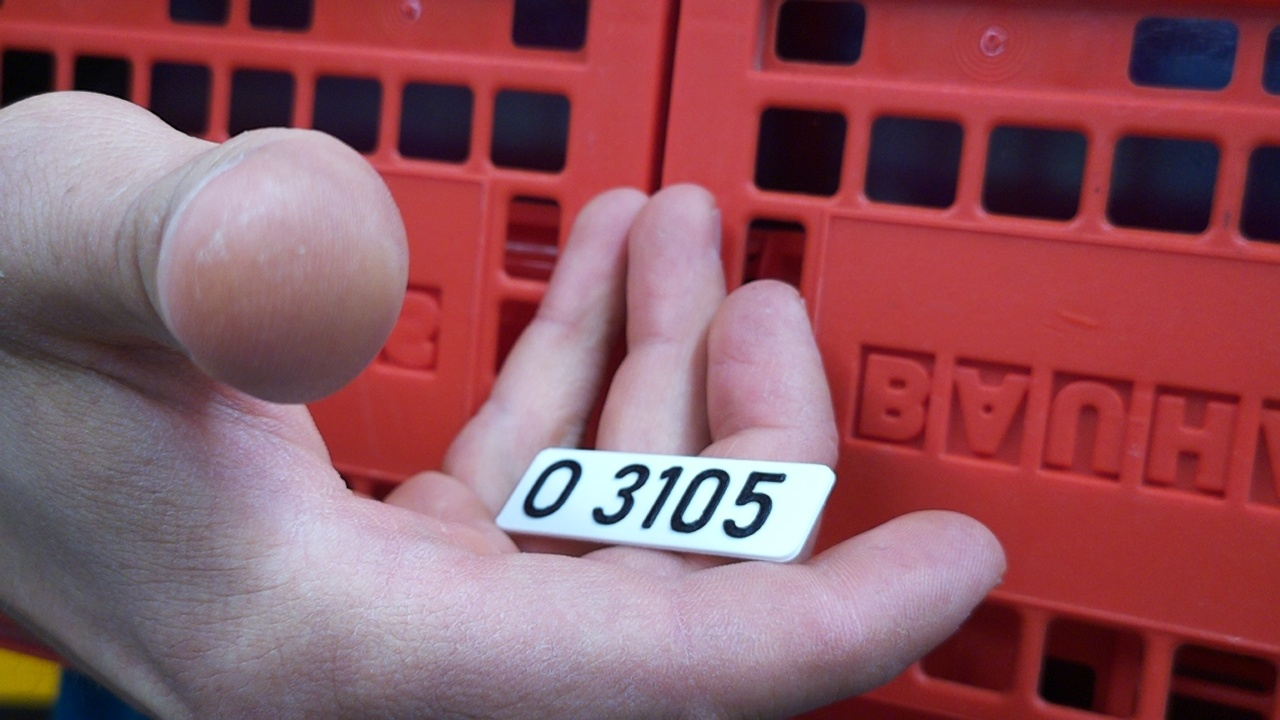license_plate: (492, 442, 839, 566)
